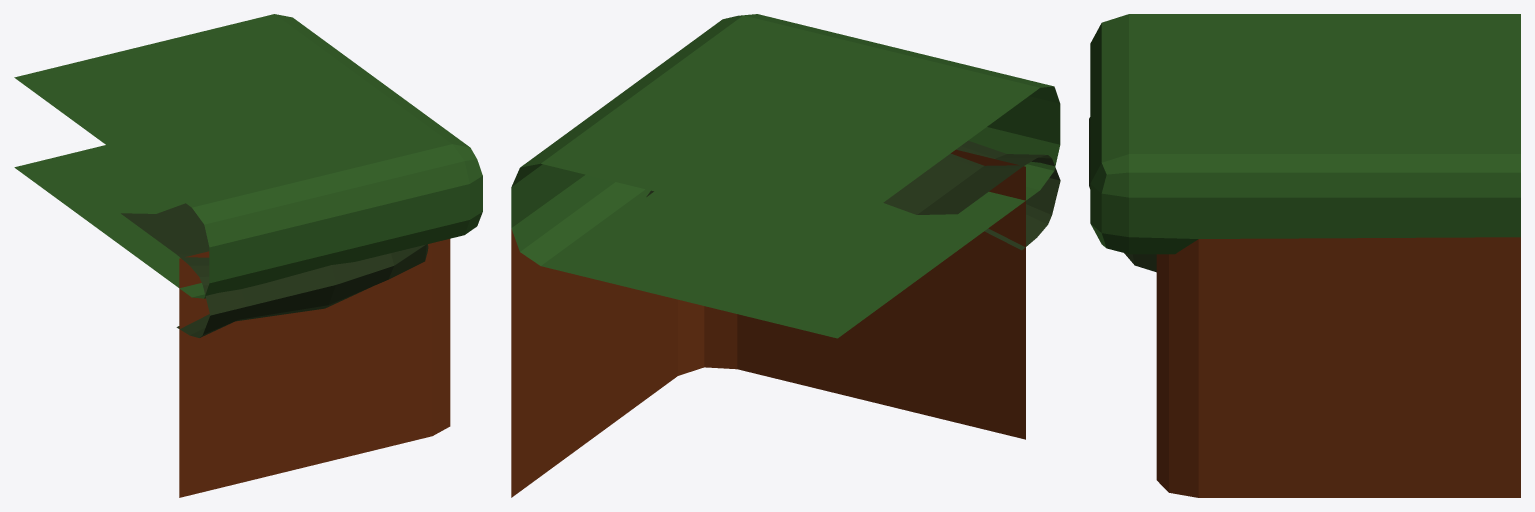
The model's file is FrontUpRight.fbx.
The picture shows the model from 3 angles, left to right: view 1: azimuth 30°, elevation 25°; view 2: azimuth 150°, elevation 25°; view 3: azimuth 270°, elevation 25°; orthographic projection. The views are drawn at different scales.
Parts seen in each view (by area): view 1: FrontUpRight; view 2: FrontUpRight; view 3: FrontUpRight.
Boxes of the visible parts, bbox=[...] form: FrontUpRight: bbox=[14, 14, 482, 497]; FrontUpRight: bbox=[511, 14, 1060, 497]; FrontUpRight: bbox=[1089, 14, 1520, 497].
Bounding box in the file's own units: 200 × 200 × 237.
